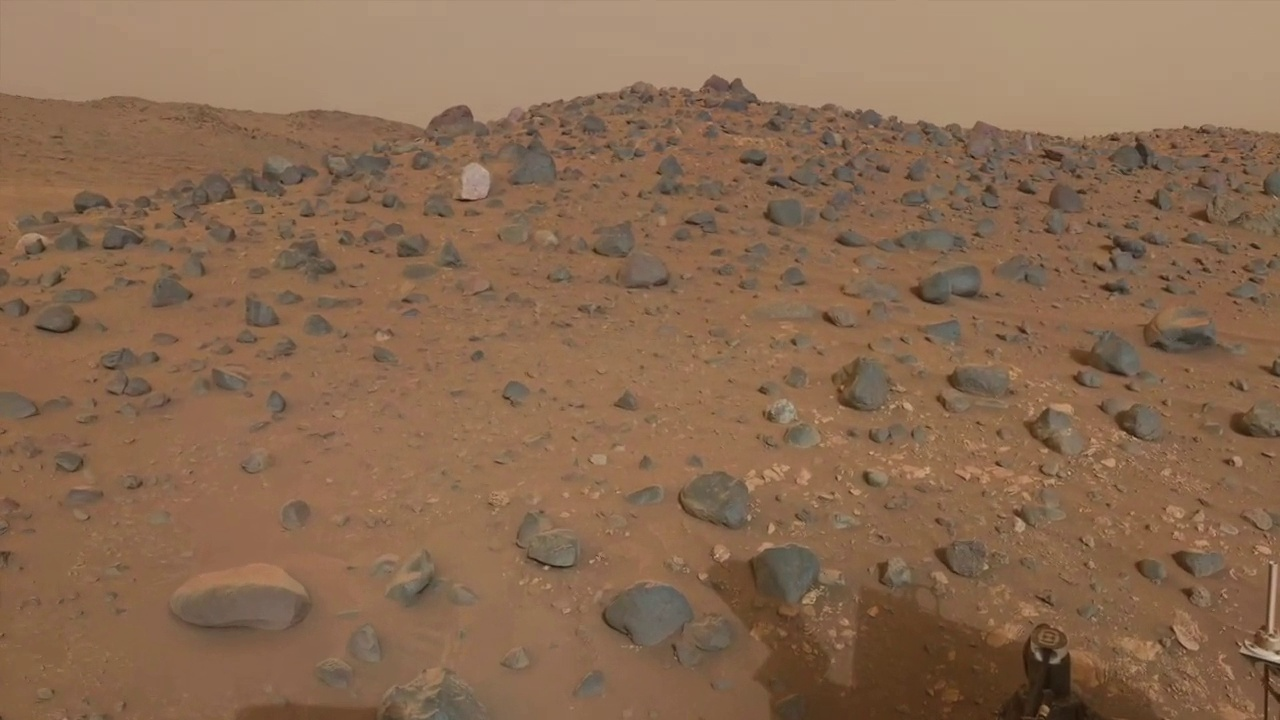rock: (1210, 565, 1280, 720), (831, 358, 893, 412), (1133, 559, 1195, 603), (933, 541, 997, 582), (1023, 408, 1068, 454), (1167, 550, 1229, 581), (946, 370, 1014, 397), (1113, 404, 1159, 442), (1228, 407, 1280, 439), (526, 544, 580, 571), (1152, 625, 1185, 660), (106, 377, 152, 397)
